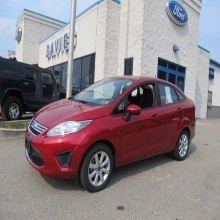no damage: (24, 75, 197, 192), (1, 51, 76, 119)
